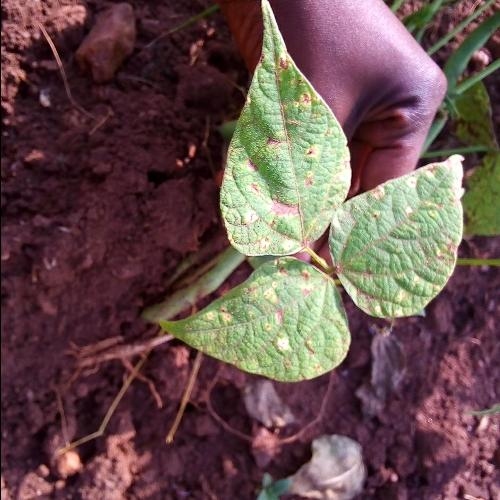hawar: (340, 176, 450, 306), (221, 105, 329, 230), (194, 272, 320, 376)
